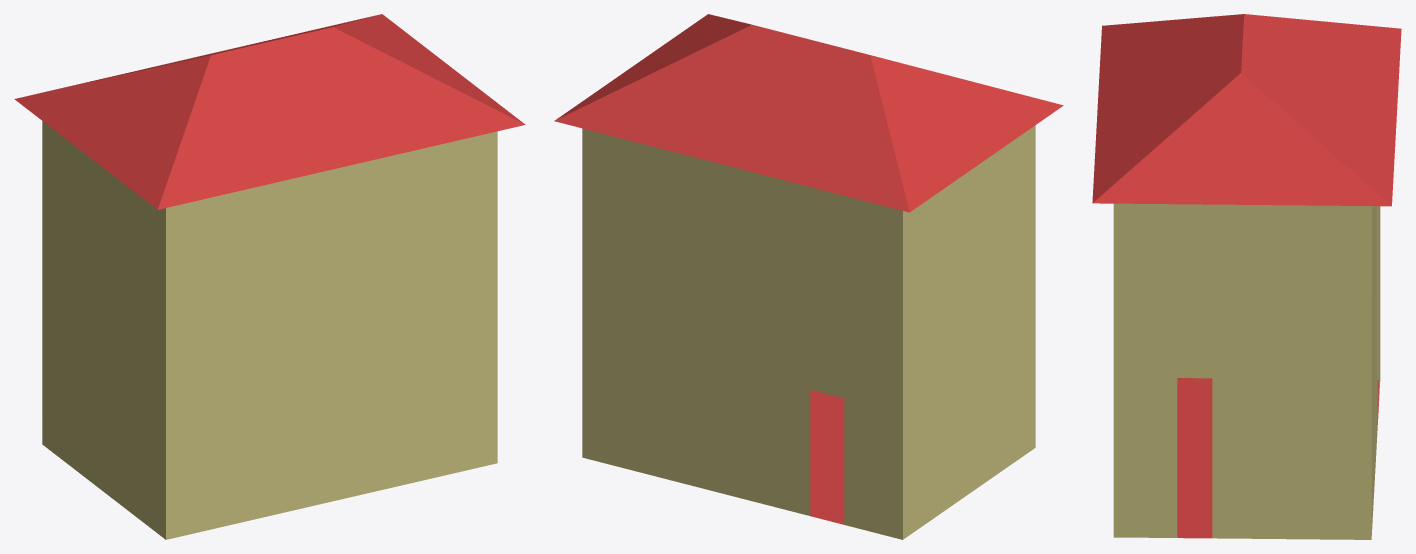
3 renders of one model, left to right at view 1: azimuth 30°, elevation 25°; view 2: azimuth 150°, elevation 25°; view 3: azimuth 270°, elevation 25°, orthographic.
Size of the model in its own units: 10.25 by 7.42 by 11.
